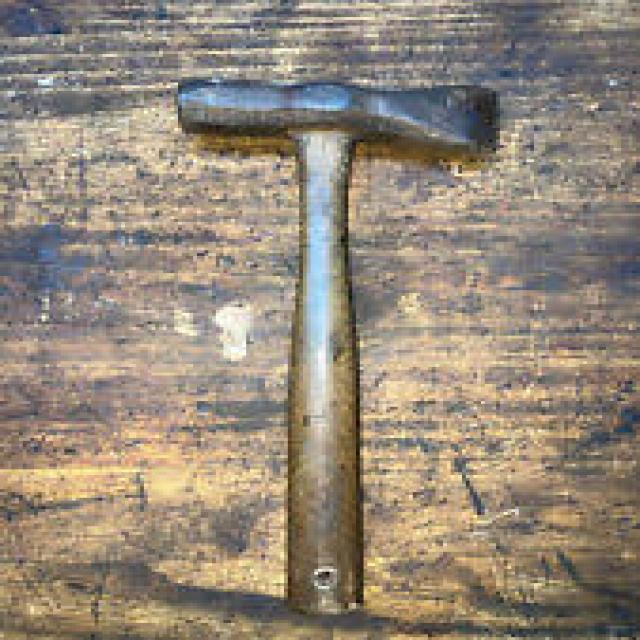hammer: (170, 71, 497, 634)
